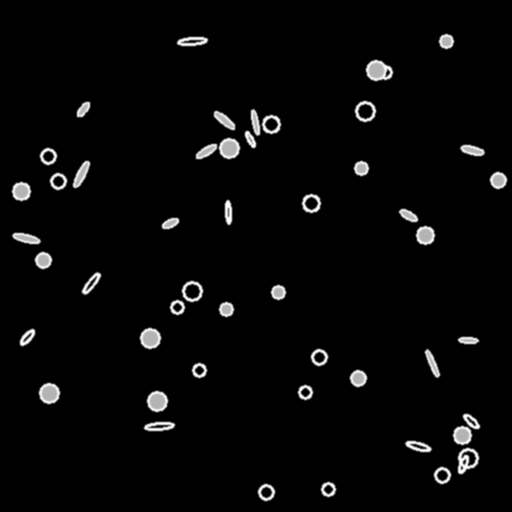pseudomonas: (71, 159, 91, 189), (81, 271, 101, 295), (212, 110, 236, 130), (424, 349, 440, 377), (194, 142, 218, 160), (462, 412, 480, 430), (18, 328, 36, 346), (13, 232, 39, 244), (406, 440, 430, 452), (460, 144, 484, 156), (398, 208, 418, 222), (250, 109, 260, 135), (75, 101, 91, 117), (161, 216, 179, 230), (177, 37, 207, 45), (145, 422, 173, 430), (457, 455, 469, 473), (244, 131, 256, 147), (225, 200, 231, 224), (458, 337, 478, 343)
synechocystis: (356, 102, 374, 120), (459, 449, 477, 467), (148, 392, 166, 410), (40, 384, 58, 402), (220, 139, 238, 157), (367, 61, 385, 79), (141, 329, 159, 347), (183, 282, 201, 300), (13, 183, 29, 199), (303, 195, 319, 211), (263, 116, 279, 132), (454, 427, 470, 443), (417, 227, 433, 243), (435, 468, 449, 482), (259, 485, 273, 499), (36, 253, 50, 267), (312, 350, 326, 364), (351, 371, 365, 385), (51, 174, 65, 188), (41, 149, 55, 163), (491, 173, 505, 187), (171, 301, 183, 313), (440, 35, 452, 47), (220, 303, 232, 315), (355, 162, 367, 174), (322, 483, 334, 495), (379, 66, 391, 78), (193, 364, 205, 376), (299, 386, 311, 398), (272, 286, 284, 298)
